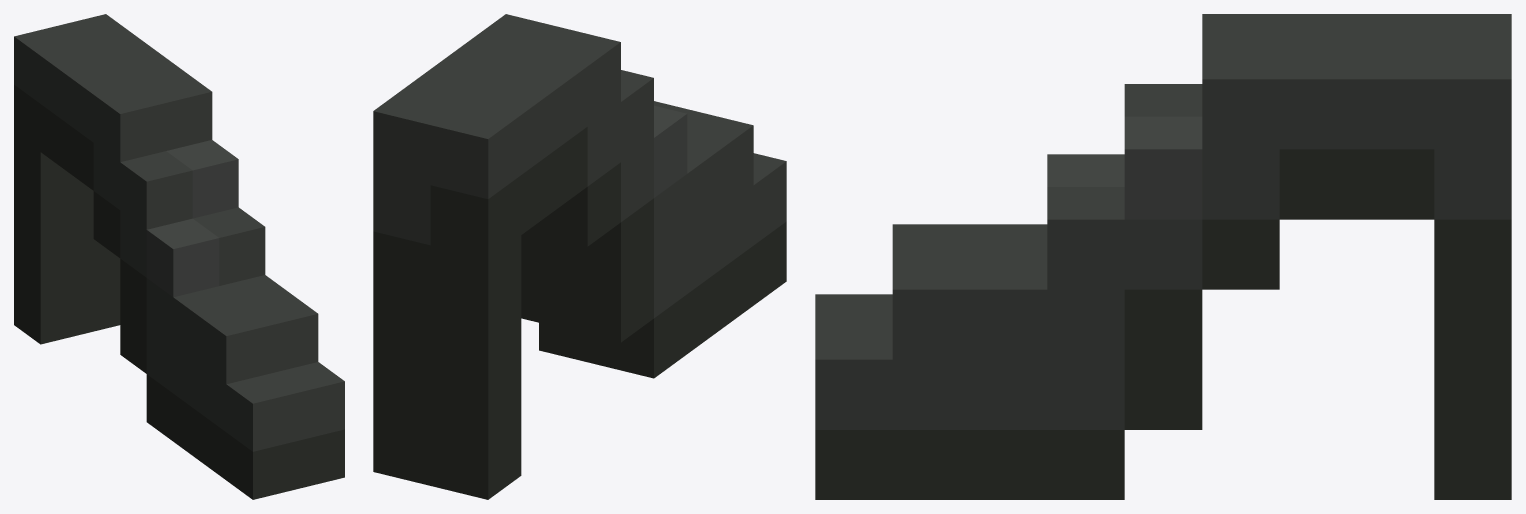
File: Brune-9.obj
3 views of the same model, side by side, from view 1: azimuth 30°, elevation 25°; view 2: azimuth 150°, elevation 25°; view 3: azimuth 270°, elevation 25° (orthographic). The views are drawn at different scales.
Bounding box in the file's own units: 0.2 × 0.6 × 0.9.
1 material, 1 textured.
